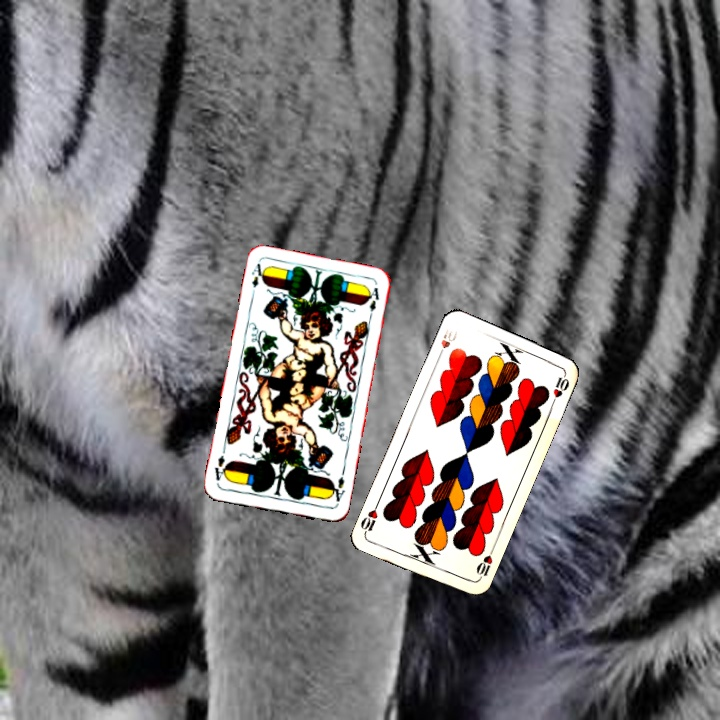EA: (327, 473, 347, 507), (247, 259, 268, 290)
H10: (434, 324, 460, 361), (472, 545, 496, 583)
